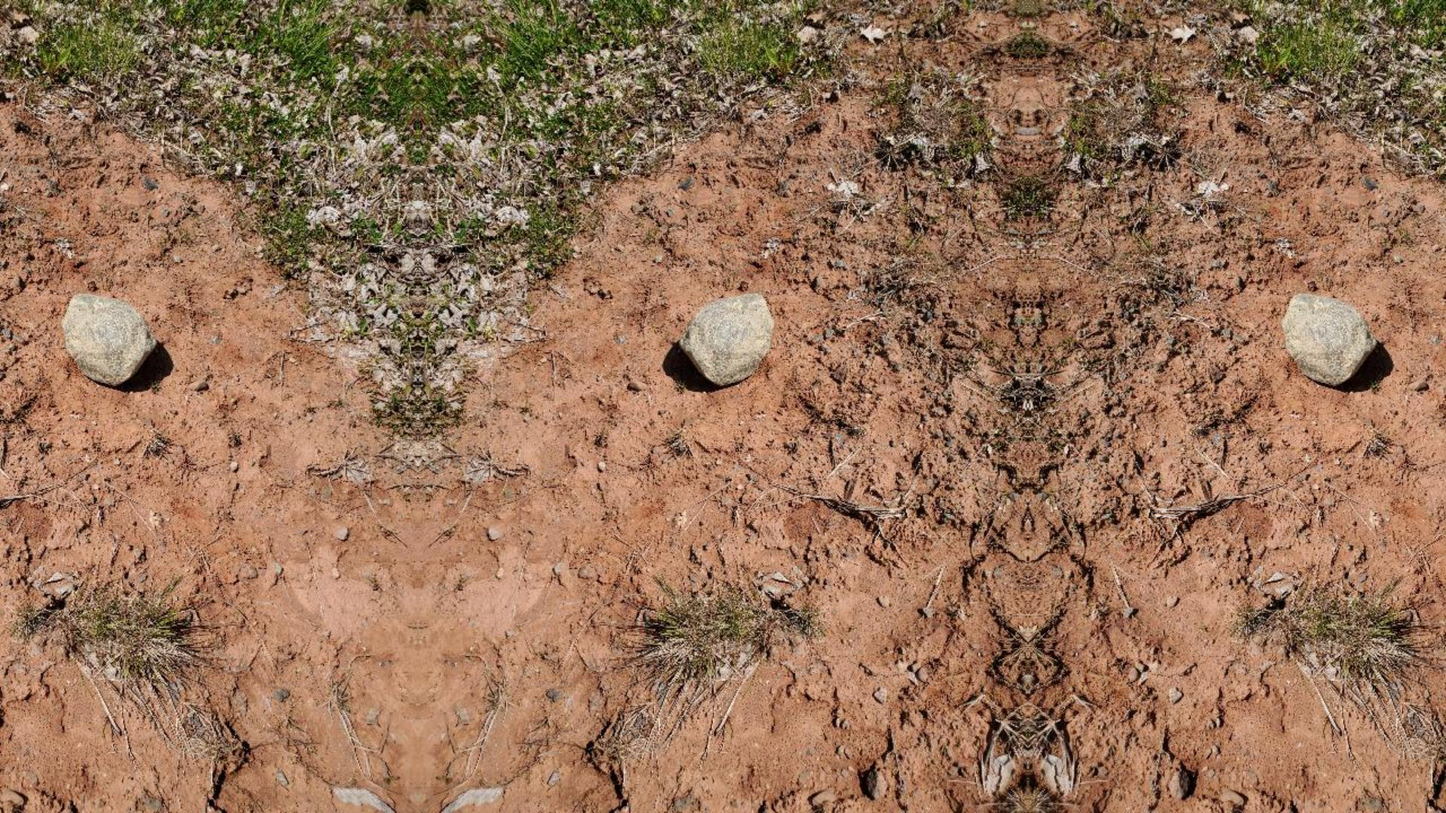rock: (62, 292, 156, 386), (1282, 292, 1376, 385), (680, 294, 773, 385)
